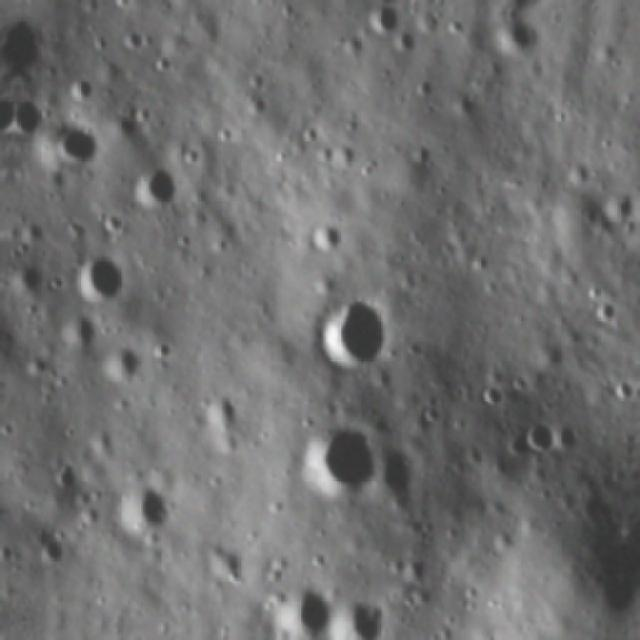crater: (308, 282, 403, 386), (288, 417, 388, 509), (260, 568, 340, 640), (370, 437, 435, 514), (112, 472, 182, 542), (63, 247, 131, 311), (123, 161, 186, 221), (331, 586, 392, 640), (91, 335, 144, 391), (51, 119, 106, 172), (494, 12, 544, 68), (52, 306, 106, 357), (298, 213, 353, 261), (42, 453, 89, 501), (516, 418, 564, 464), (595, 183, 640, 231), (6, 257, 54, 298), (30, 524, 70, 573), (14, 96, 46, 139), (366, 2, 400, 41), (474, 375, 508, 413), (60, 73, 98, 105)
